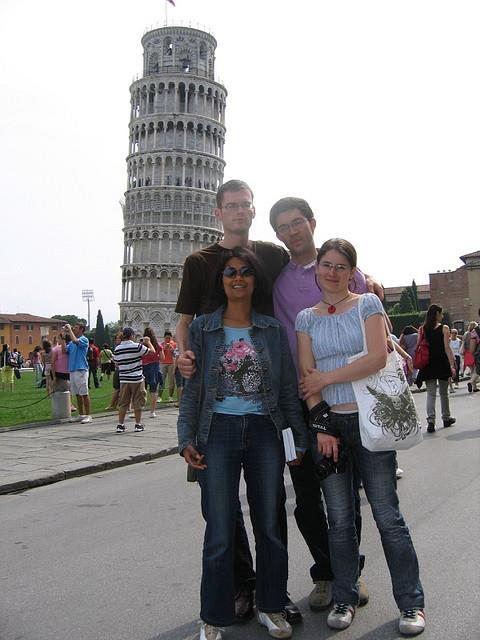Torre_di_Pisa: (116, 27, 228, 336)
